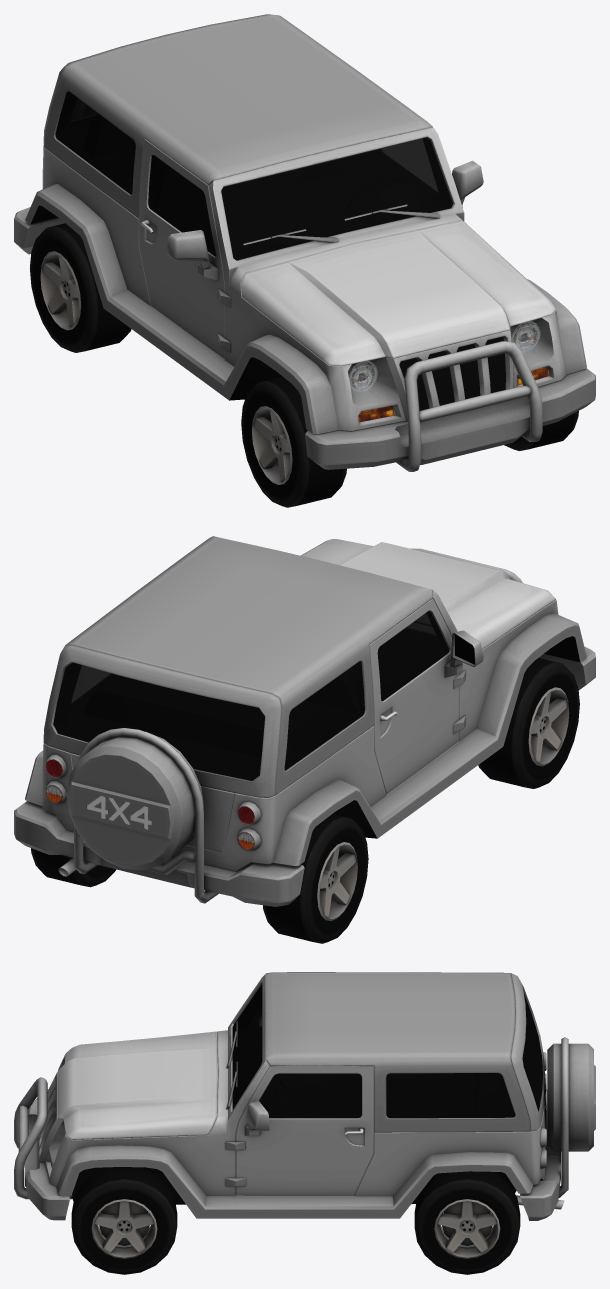
File: offroad.glb
3 views of the same model, one above another, from view 1: azimuth 30°, elevation 25°; view 2: azimuth 150°, elevation 25°; view 3: azimuth 270°, elevation 25° (orthographic). The views are drawn at different scales.
Parts seen in each view (by area): view 1: Body, Glass, Wheel2, Wheel4, Optics, Wheel1; view 2: Body, Glass, Wheel2, Wheel4, Wheel3, Optics; view 3: Body, Glass, Wheel1, Wheel3.
Part boxes in pixels (x1,y1,x2,y2): Body: (14, 14, 595, 471); Glass: (55, 91, 452, 260); Wheel2: (241, 376, 346, 507); Wheel4: (30, 223, 131, 352); Optics: (349, 321, 548, 422); Wheel1: (504, 411, 578, 450); Body: (14, 536, 595, 906); Glass: (53, 611, 449, 780); Wheel2: (478, 658, 579, 788); Wheel4: (263, 814, 368, 943); Wheel3: (31, 848, 116, 887); Optics: (45, 759, 254, 850); Body: (14, 972, 595, 1220); Glass: (232, 984, 542, 1118); Wheel1: (71, 1167, 177, 1274); Wheel3: (414, 1171, 520, 1274).
Bounding box in the file's own units: 1.96 × 1.57 × 3.95.
4 materials, 3 textured.
